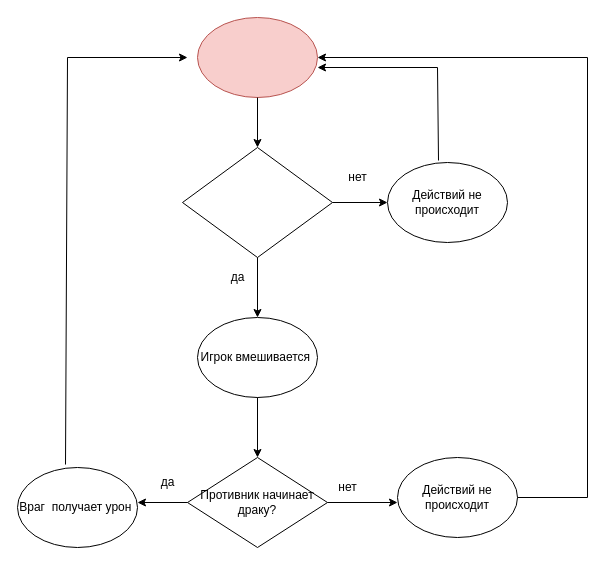
This 613x565 diagram has some shape labels left out. The centre of each missing label's shape, as x and y in pixels:
Игрок нажимает кнопку "подслушать": (x=257, y=57)
У игрока есть задание помешать переговорам?: (x=257, y=202)
